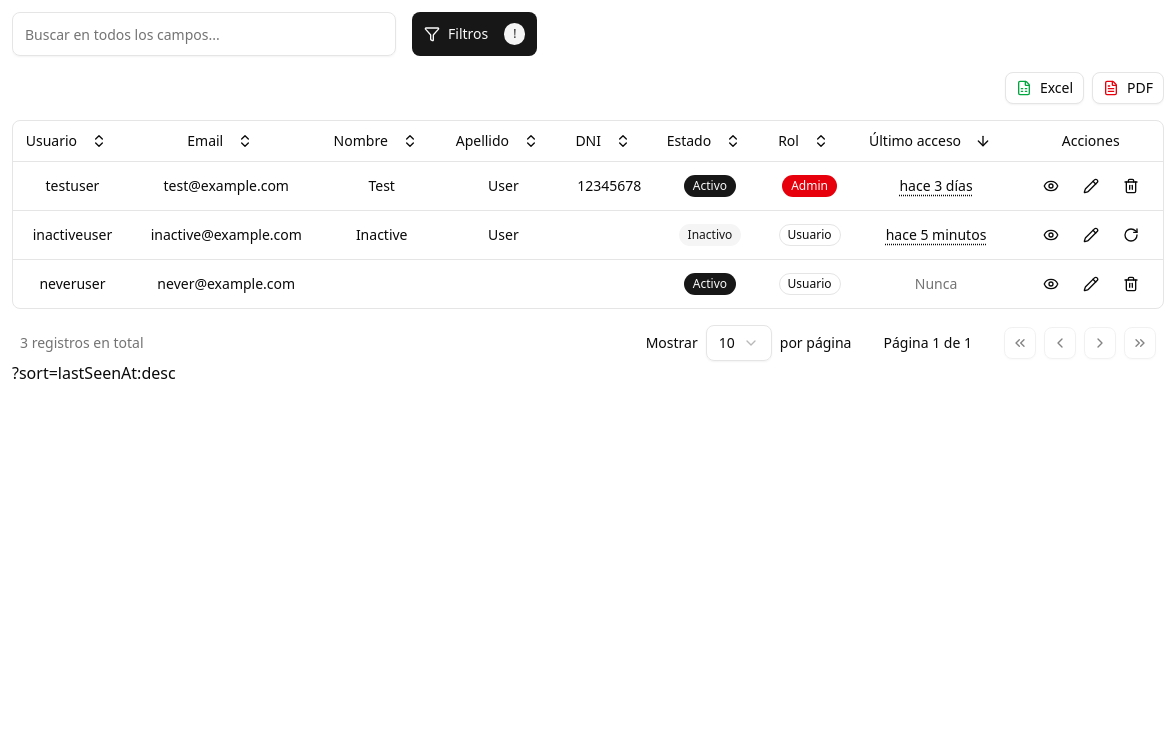
Scenario: UsersTable › last access › sorts by last access and last login through the sort controls
Click the button "Filtros !" at (475, 34), box [412,12,538,56]
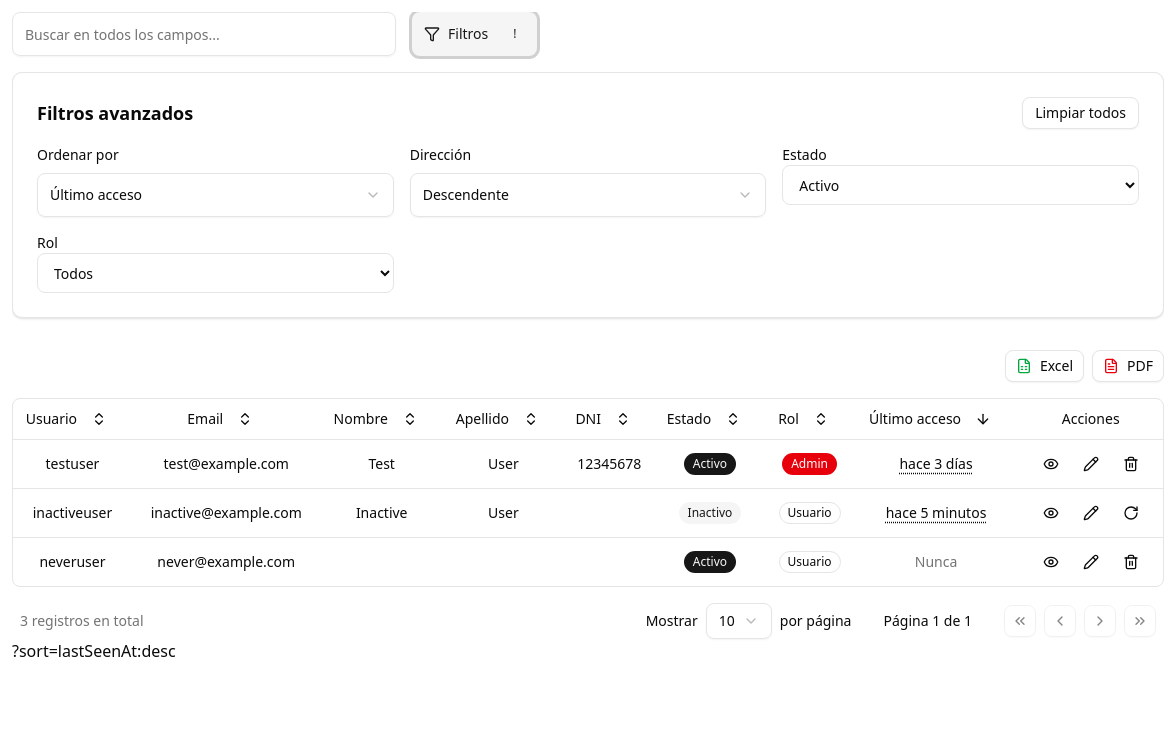
Expected: the dropdown named "Ordenar por" reads "Último acceso"
Click the dropdown named "Ordenar por" at (96, 194), box [37,173,394,217]
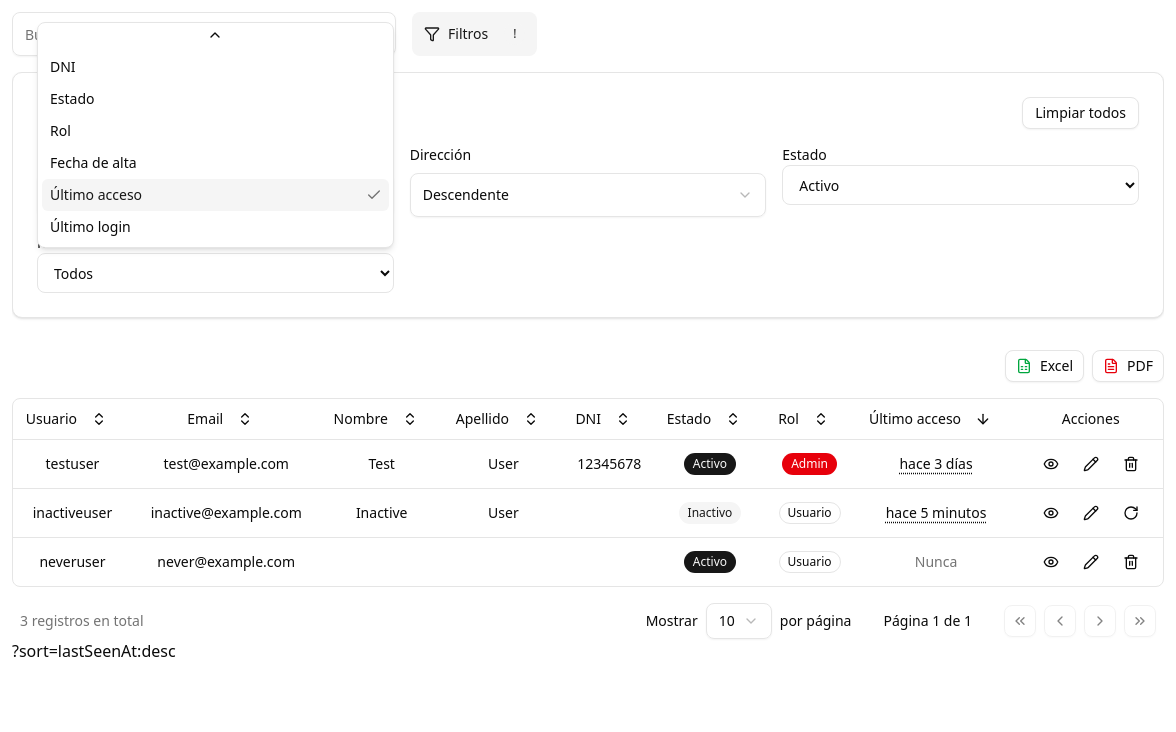
Click the option "Último login" at (90, 226), box [50,217,131,236]
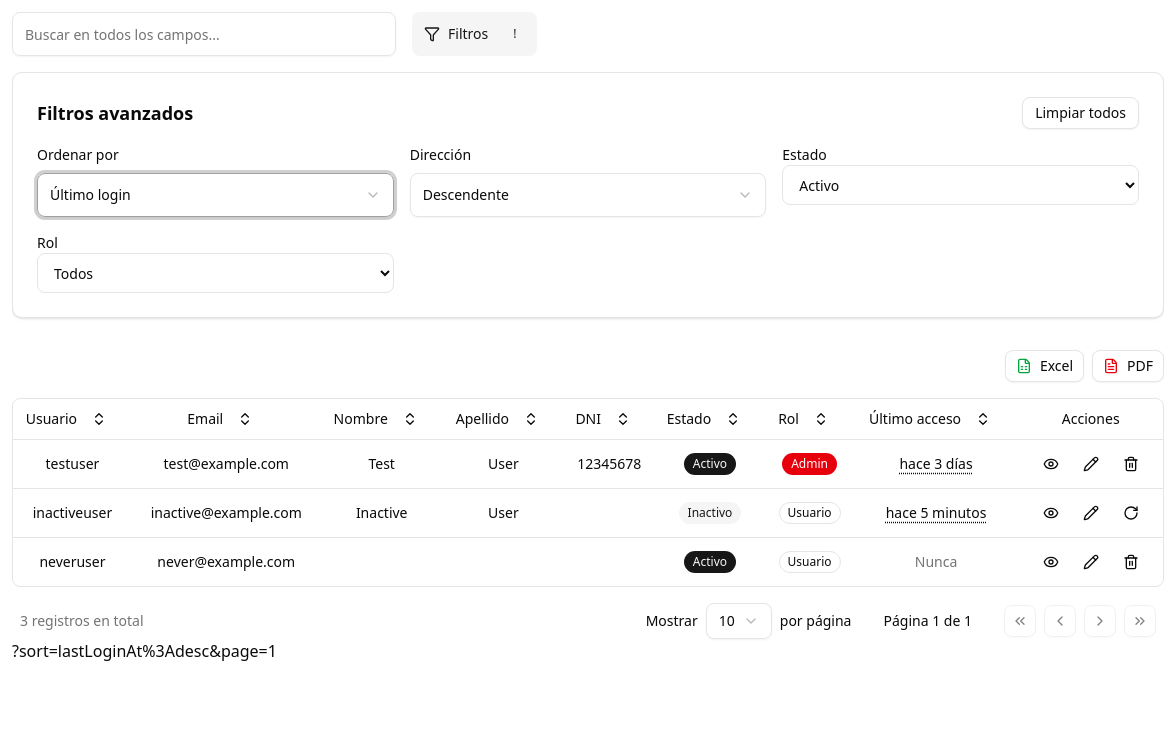
Expected: the text with test id "location-search" shows "sort=lastLoginAt%3Adesc", [12,640,277,662]
